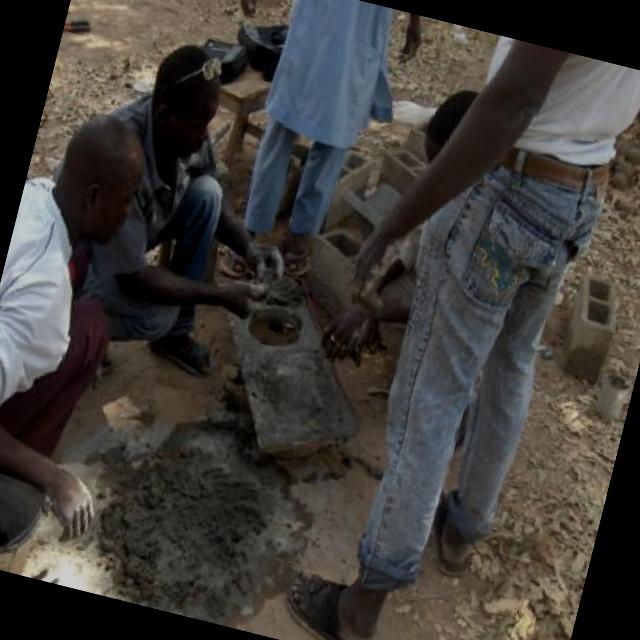Person: (257, 13, 640, 640), (9, 21, 332, 412), (0, 78, 199, 576), (302, 68, 547, 454), (170, 0, 428, 310)
